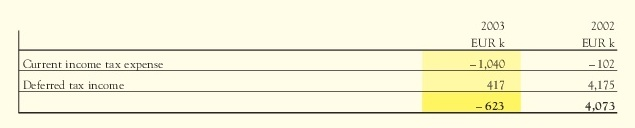table: (0, 0, 635, 128)
